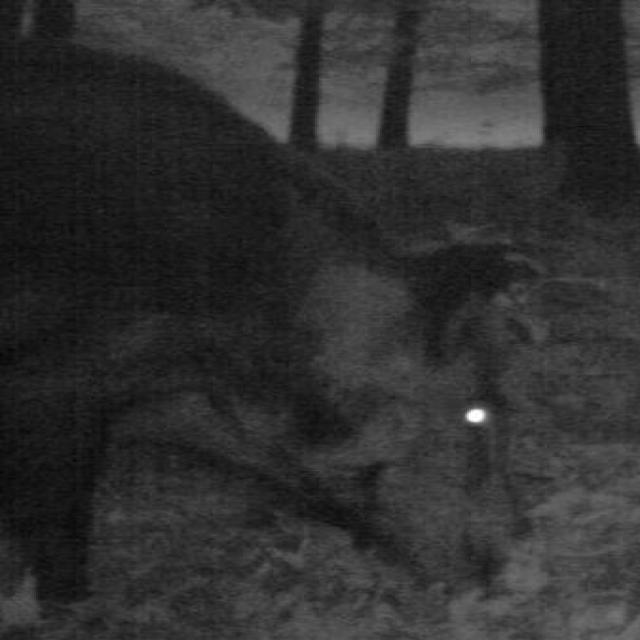pig: (0, 16, 576, 640)
